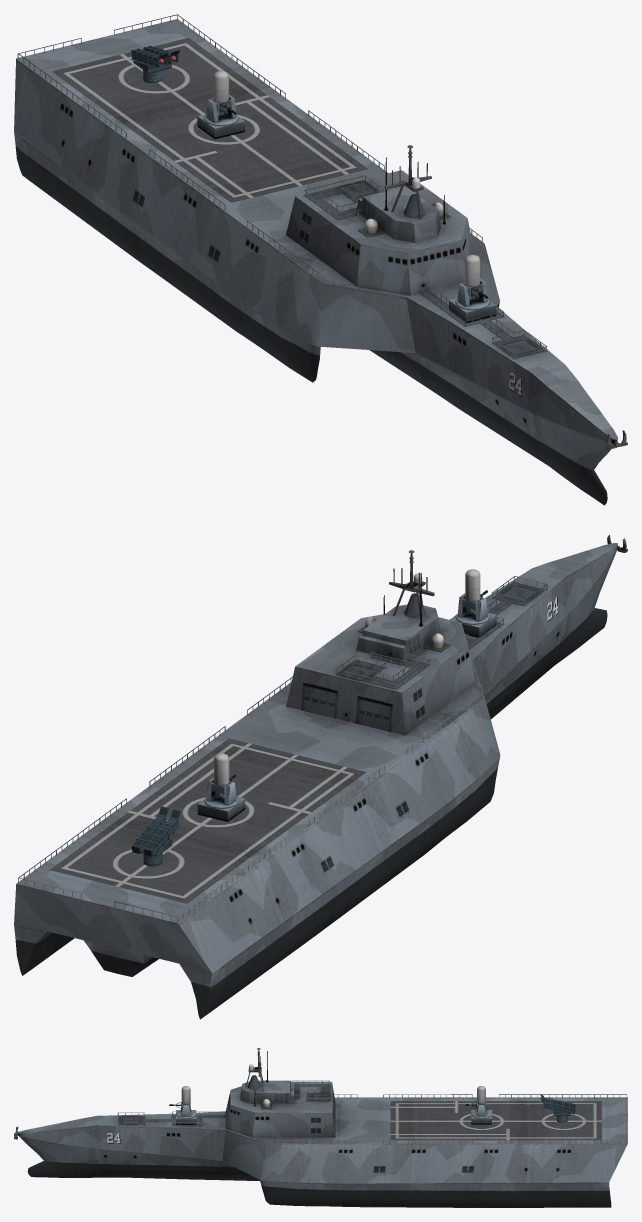
Rendered from LCS.glb.
3 views of the same model, one above another, from view 1: azimuth 30°, elevation 25°; view 2: azimuth 150°, elevation 25°; view 3: azimuth 270°, elevation 25° (orthographic). The views are drawn at different scales.
Parts seen in each view (by area): view 1: USS INDEPENDENCE LCS-2; view 2: USS INDEPENDENCE LCS-2; view 3: USS INDEPENDENCE LCS-2.
Part boxes in pixels (x1,y1,x2,y2): USS INDEPENDENCE LCS-2: (14, 14, 627, 505); USS INDEPENDENCE LCS-2: (14, 535, 627, 1019); USS INDEPENDENCE LCS-2: (14, 1048, 627, 1207).
Bounding box in the file's own units: 28.41 × 30.59 × 127.
Materials: 3 (3 with a texture image).
